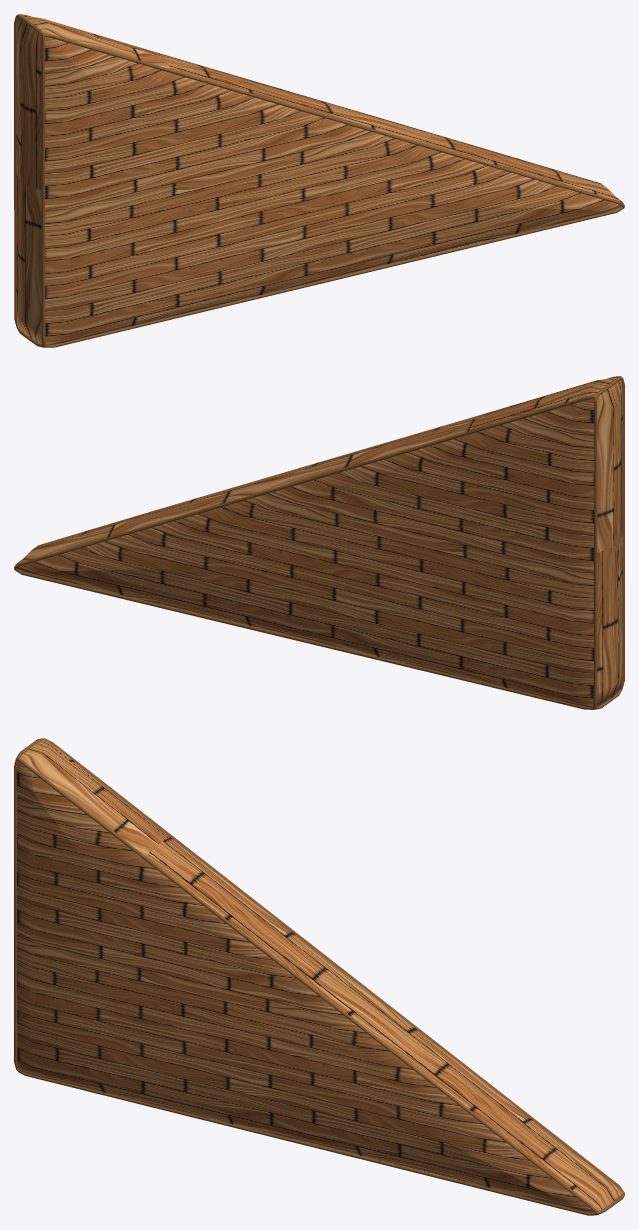
File: SM_FoamRampSide_1x2.fbx
3 views of the same model, one above another, from view 1: azimuth 30°, elevation 25°; view 2: azimuth 150°, elevation 25°; view 3: azimuth 330°, elevation 25° (orthographic).
Visible parts, largest first — view 1: SM_FoamRampSide_1x2; view 2: SM_FoamRampSide_1x2; view 3: SM_FoamRampSide_1x2.
Boxes of the visible parts, x1,y1,x2,y2 form: SM_FoamRampSide_1x2: [14, 14, 624, 347]; SM_FoamRampSide_1x2: [14, 376, 624, 709]; SM_FoamRampSide_1x2: [14, 738, 624, 1215].
Bounding box in the file's own units: 199 × 104 × 20.
